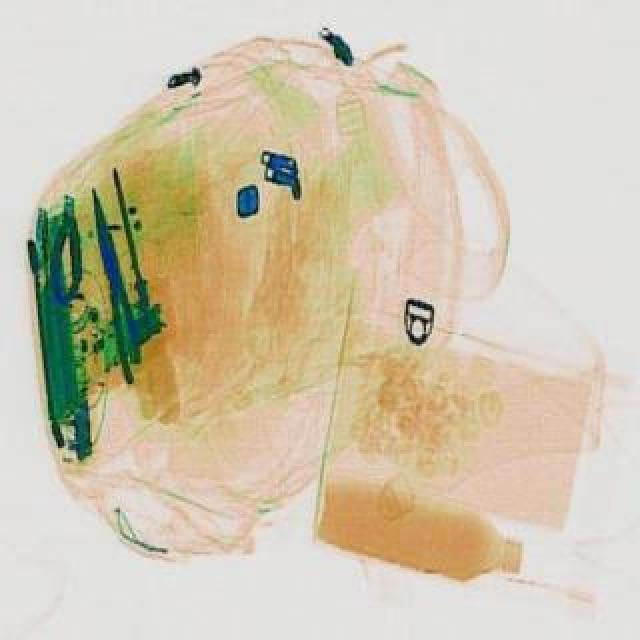wrench: (82, 184, 150, 384)
